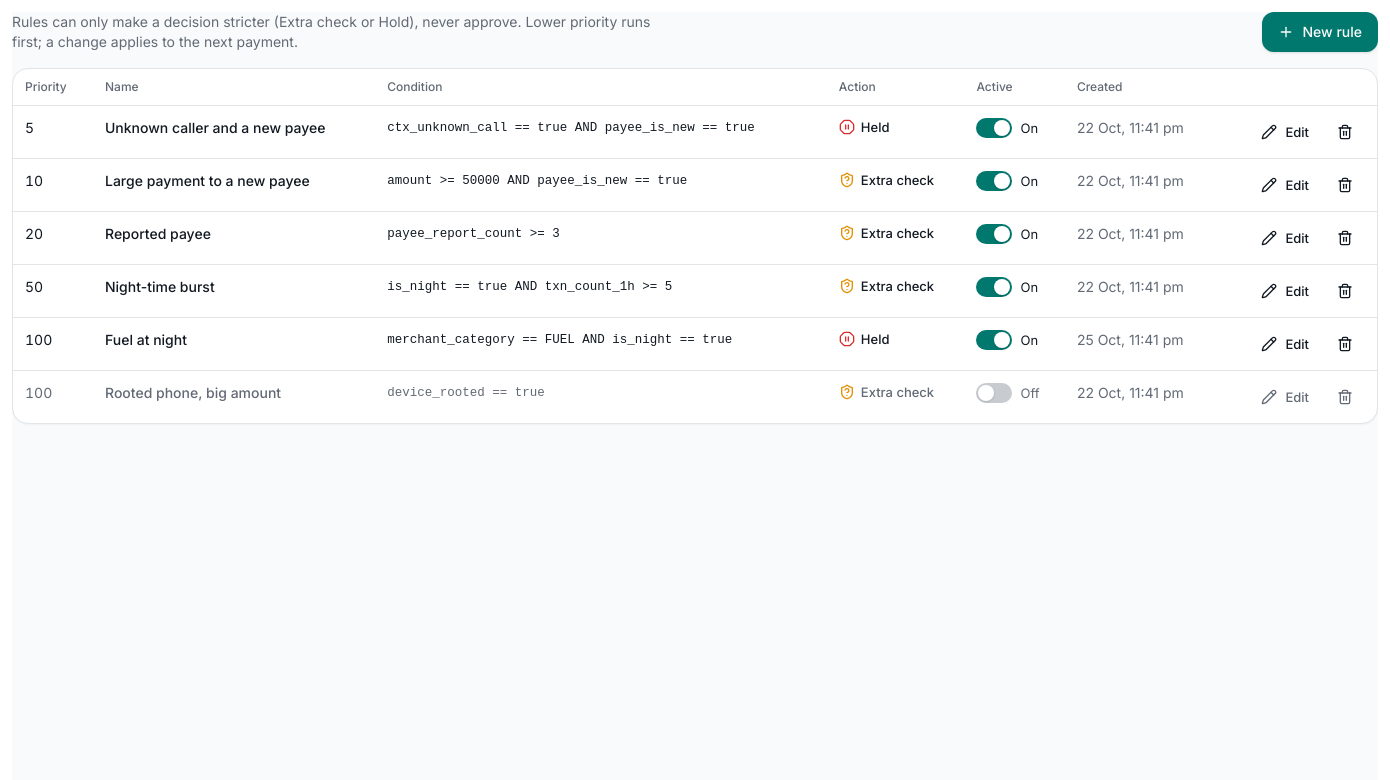
Test case: Rules Manager (spec 06 §3, §4) › shows the API's answer when the name is taken
Click the button "New rule" at (1320, 32), box [1262, 12, 1378, 52]
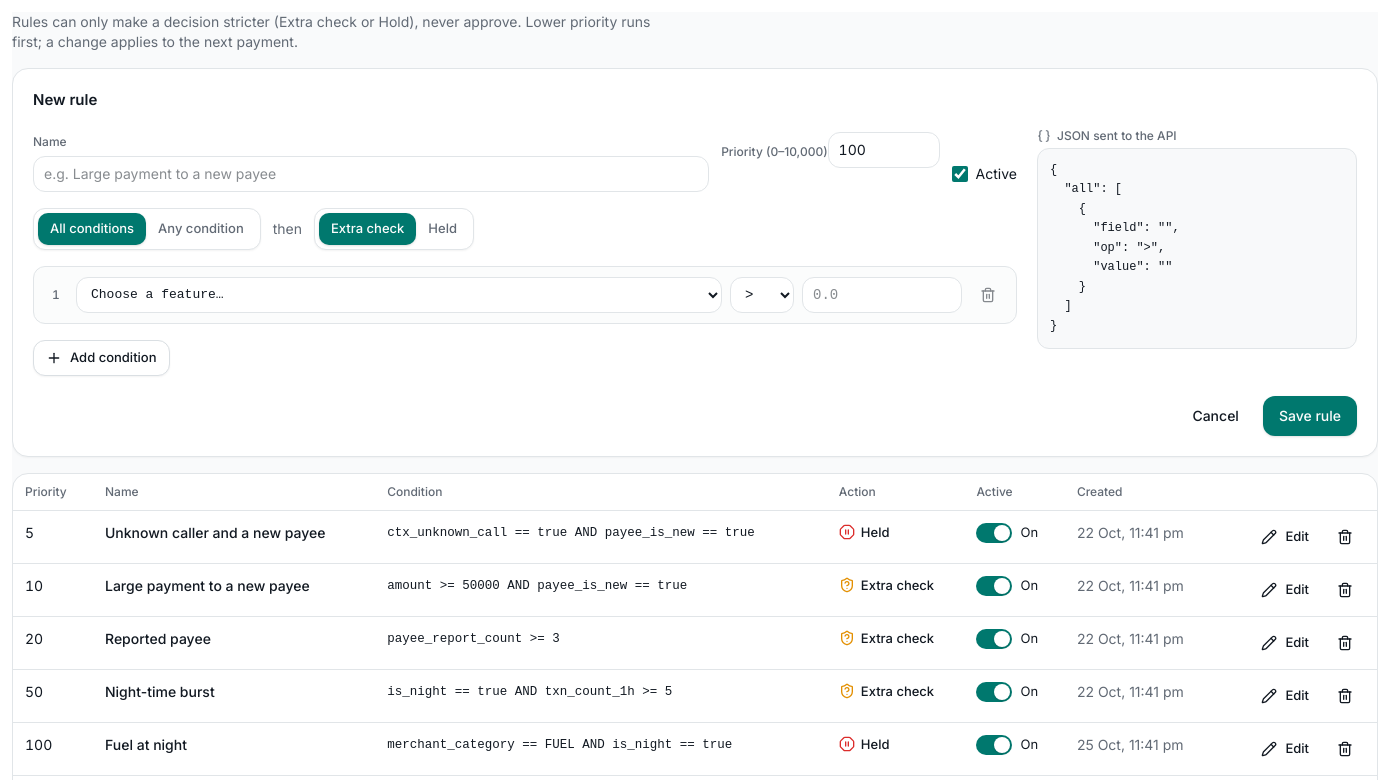
Type "Reported payee" into the field labelled "Name" at (371, 174), box [33, 156, 709, 192]
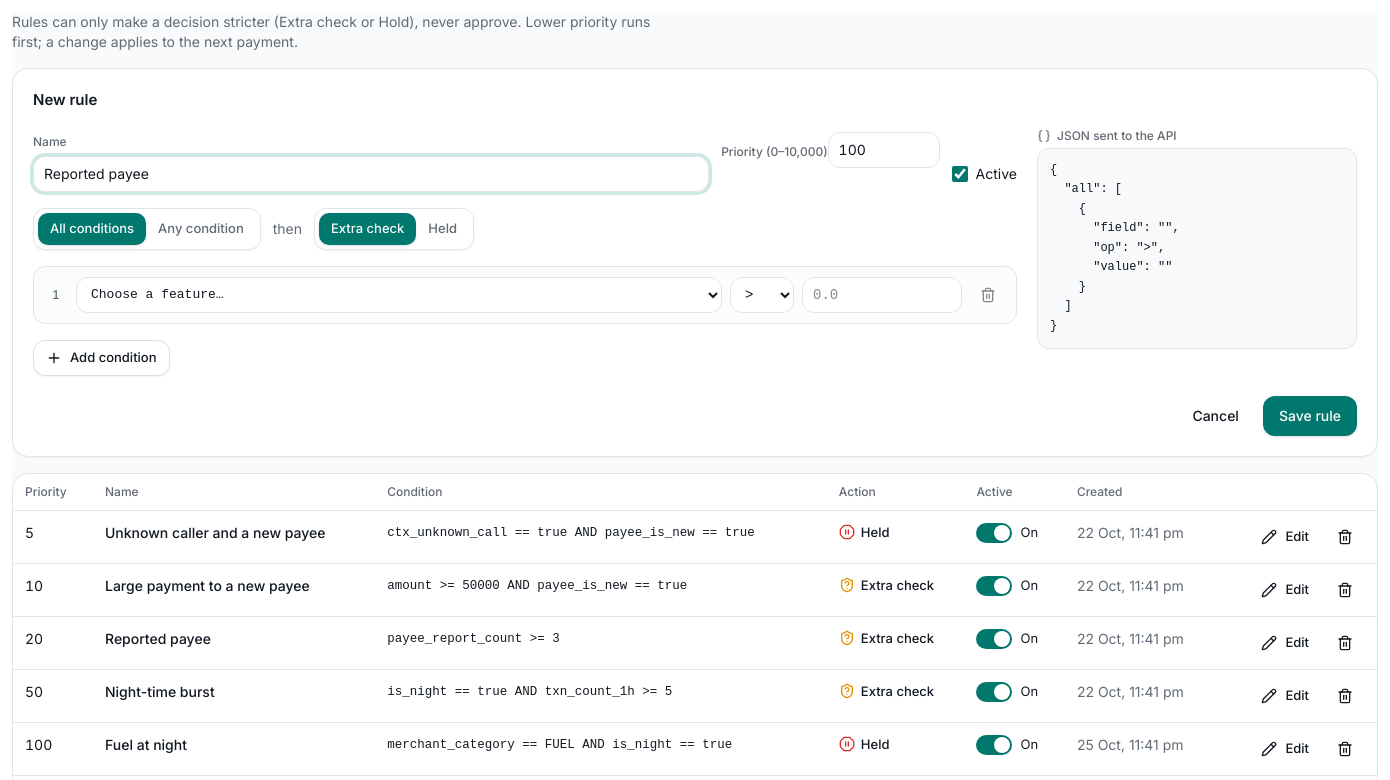
Select "payee_report_count" in the dropdown named "Feature, condition 1" at (399, 294), box [76, 276, 722, 312]
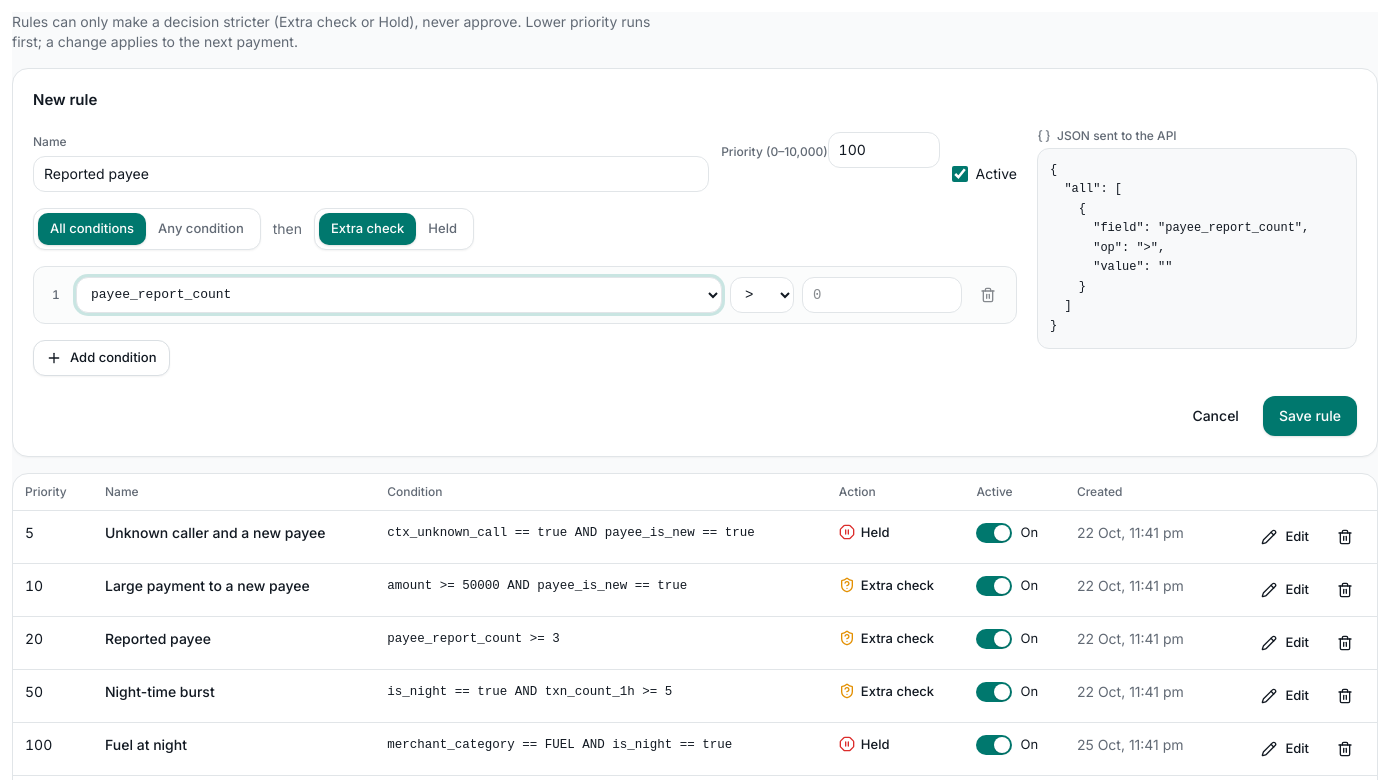
Type "1" into the field named "Value, condition 1" at (882, 294), box [802, 276, 962, 312]
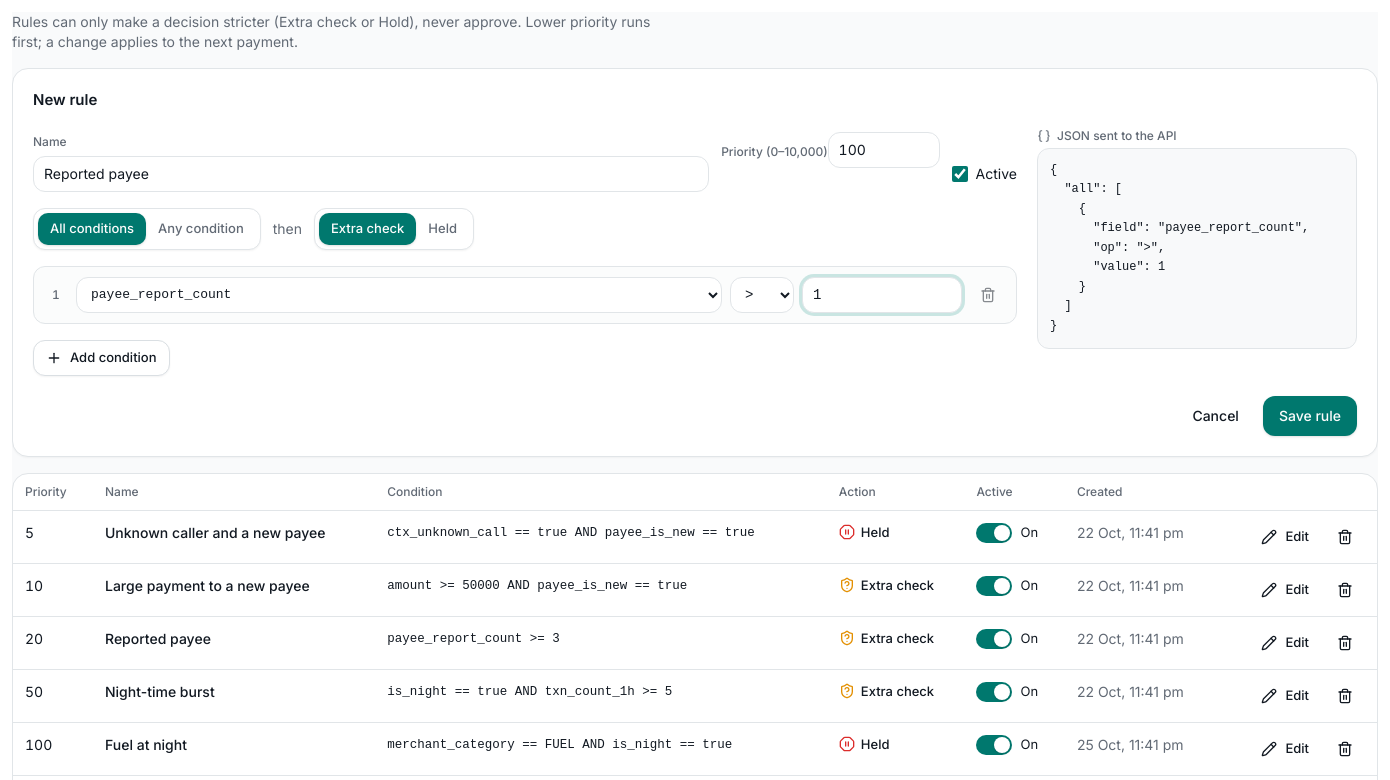
Click the button "Save rule" at (1310, 416), box [1263, 396, 1357, 436]
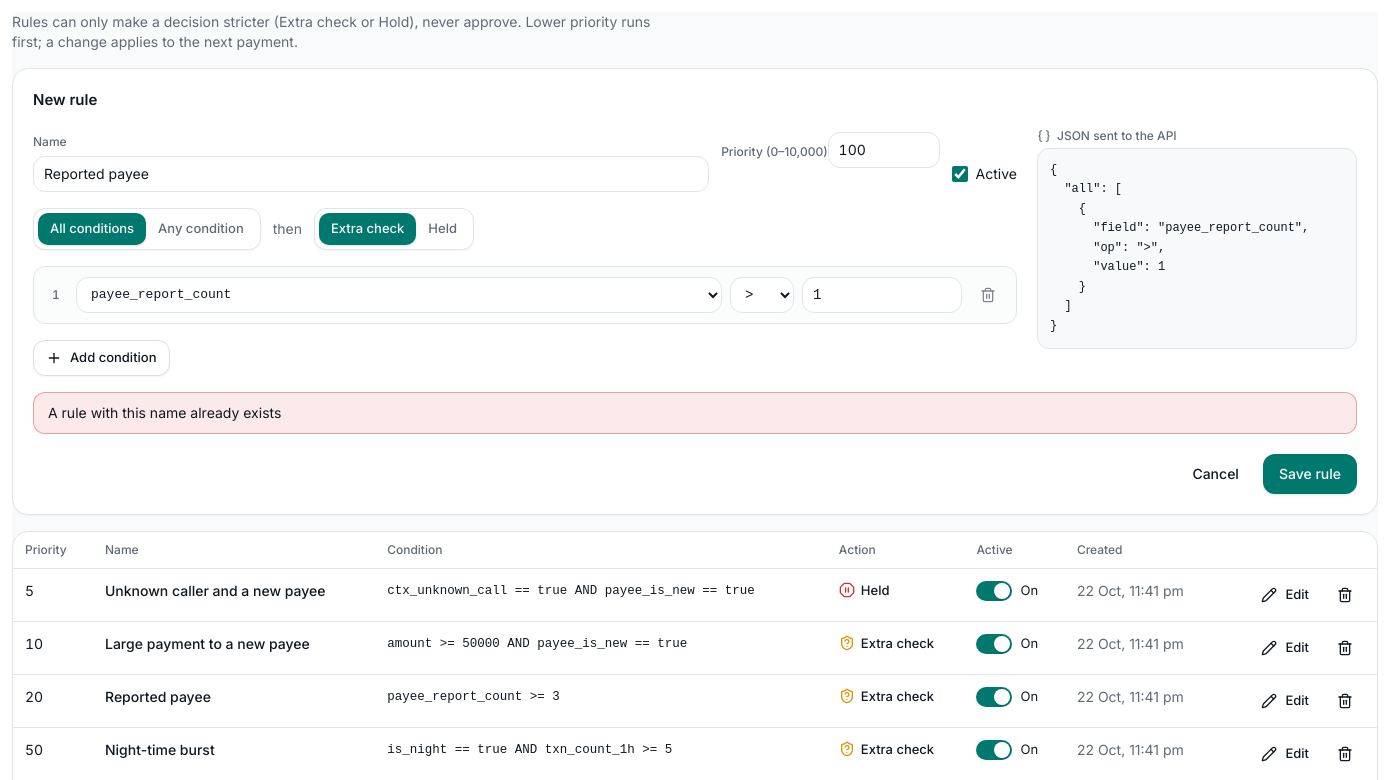
Now the text "A rule with this name already exists" is shown, box [33, 392, 1357, 434]
